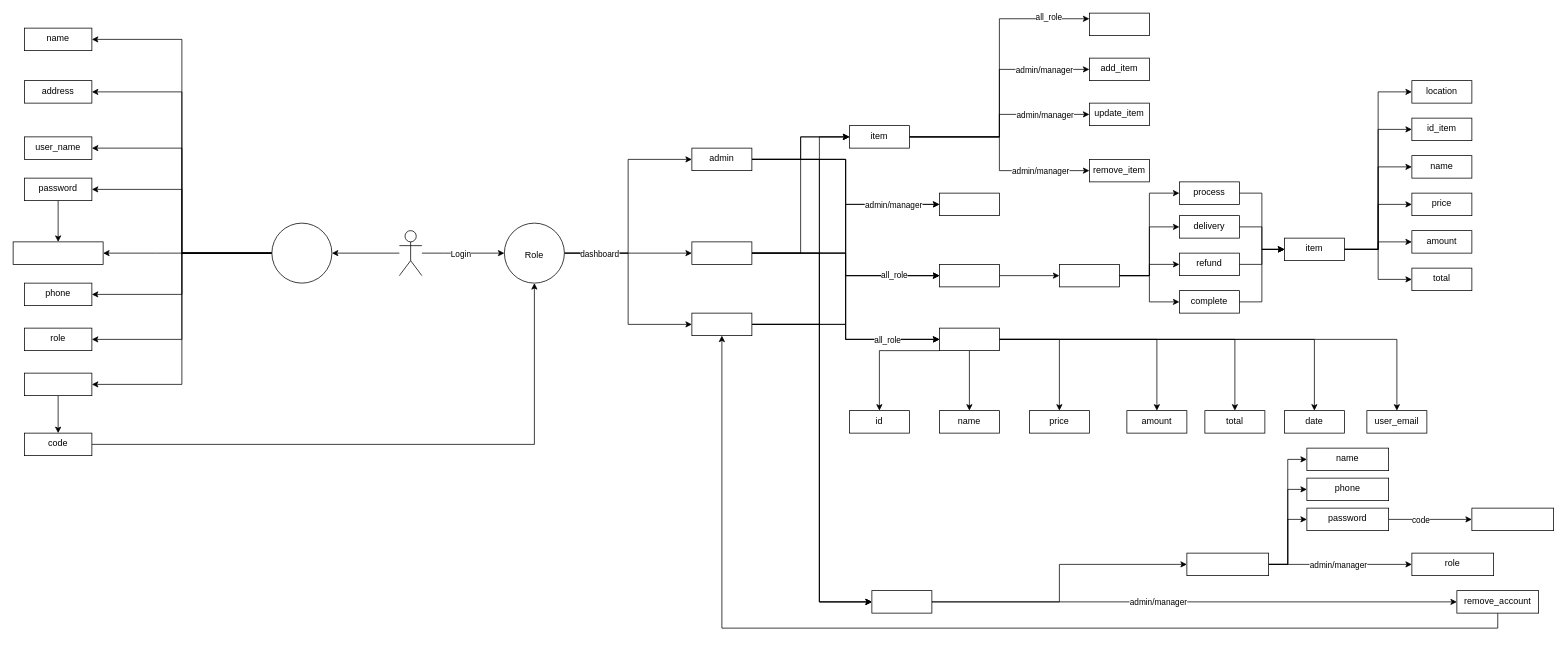
Some shapes in this 1567 by 647 pixel diagram are drawn without their labels. Each missing label, with the centre of its shape:
"Actor" goes at (x=410, y=253).
"cart" goes at (x=969, y=275).
"confirm_password" goes at (x=57, y=252).
"employee" goes at (x=721, y=324).
"history" goes at (x=969, y=339).
"mail" goes at (x=58, y=384).
"manager" goes at (x=721, y=252).
"new_password" goes at (x=1512, y=519).
"Register" goes at (x=301, y=252).
"revenues" goes at (x=969, y=204).
"settings" goes at (x=901, y=601).
"status" goes at (x=1089, y=275).
"update_account" goes at (x=1227, y=564).
"view_item" goes at (x=1119, y=24).
